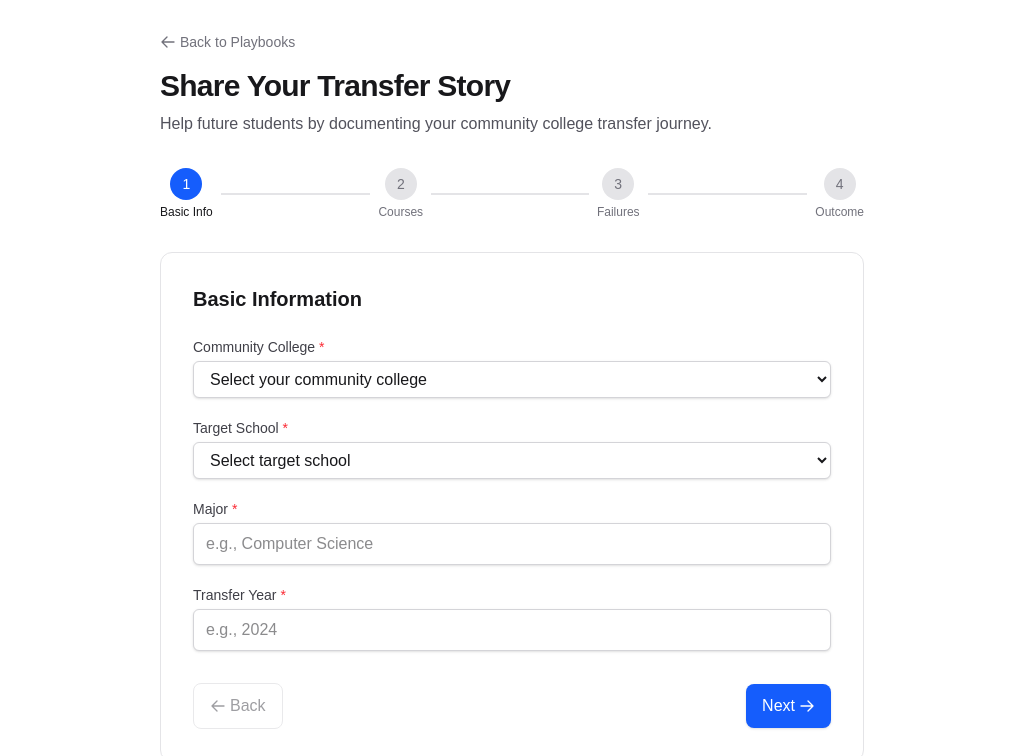
Test: PlaybookSubmitClient › clears validation errors when user fills in a field
// Try to advance without filling fields
Click the button with test id "next-step-button" at (789, 706), box x1=746 y1=684 x2=831 y2=728
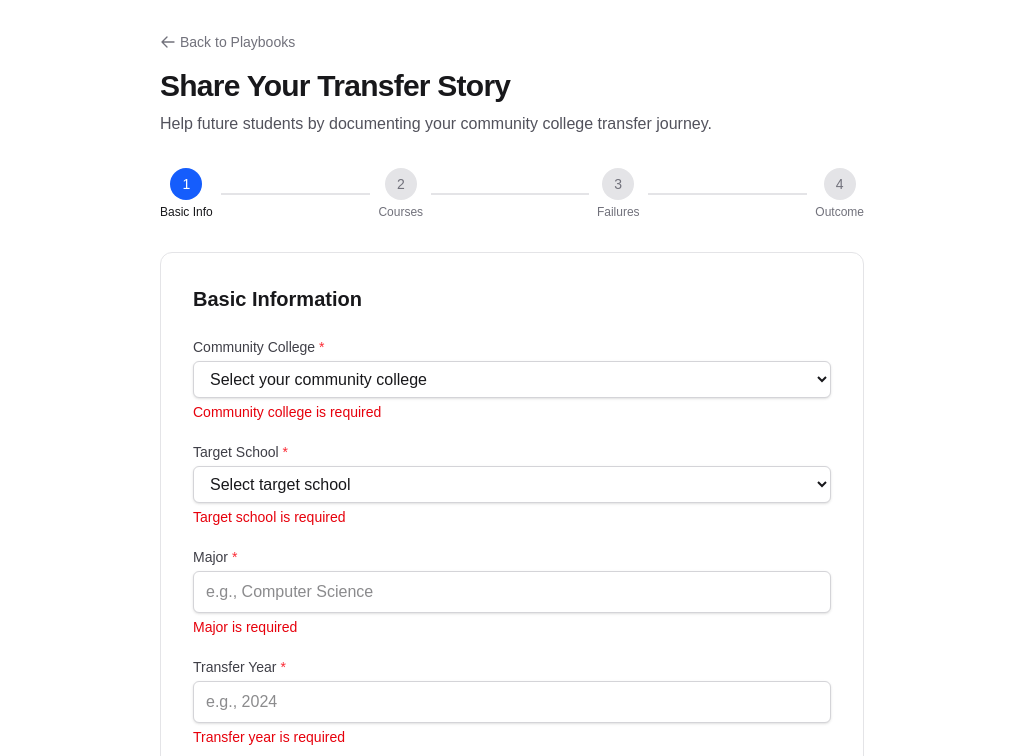
Expected: the message "Community college is required" is shown, x1=193 y1=404 x2=381 y2=420
// Fill in the CC field
Select "SMC - Santa Monica College" in the dropdown labelled "Community College *" at (512, 380), box x1=193 y1=361 x2=831 y2=398
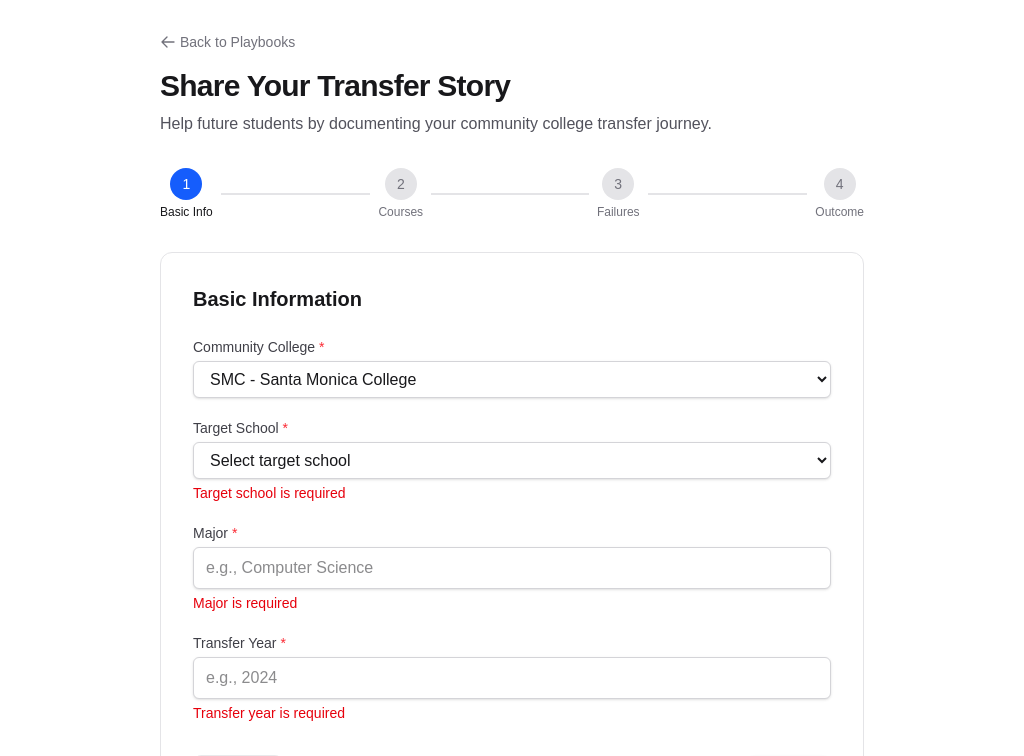
Expected: the message with test id "cc-error" is gone
